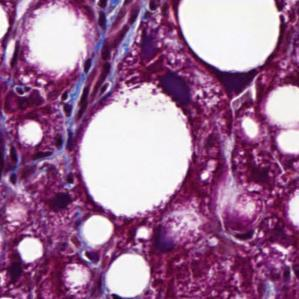inflammation: (4, 144, 78, 192), (56, 80, 92, 123)
